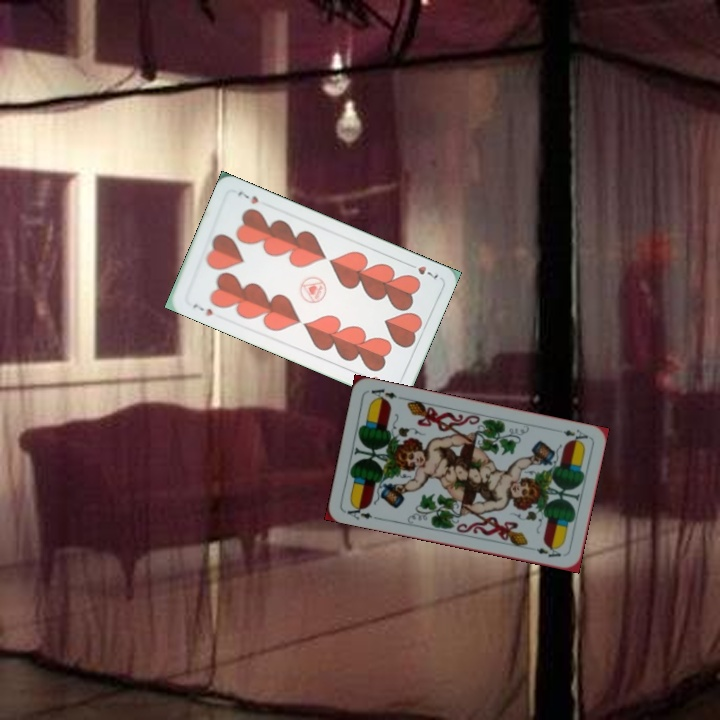EA: (341, 500, 375, 522), (559, 425, 590, 446)
H7: (403, 259, 441, 282), (189, 299, 215, 319)
